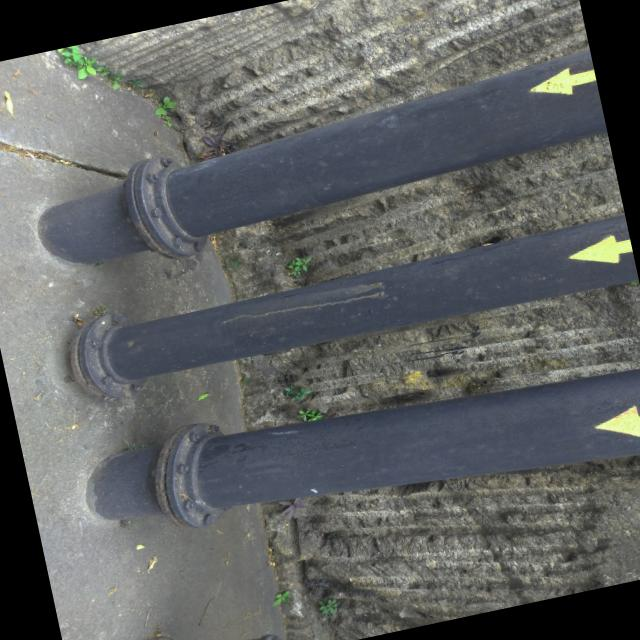gas: (22, 46, 614, 284), (79, 327, 640, 574), (62, 199, 640, 408)
